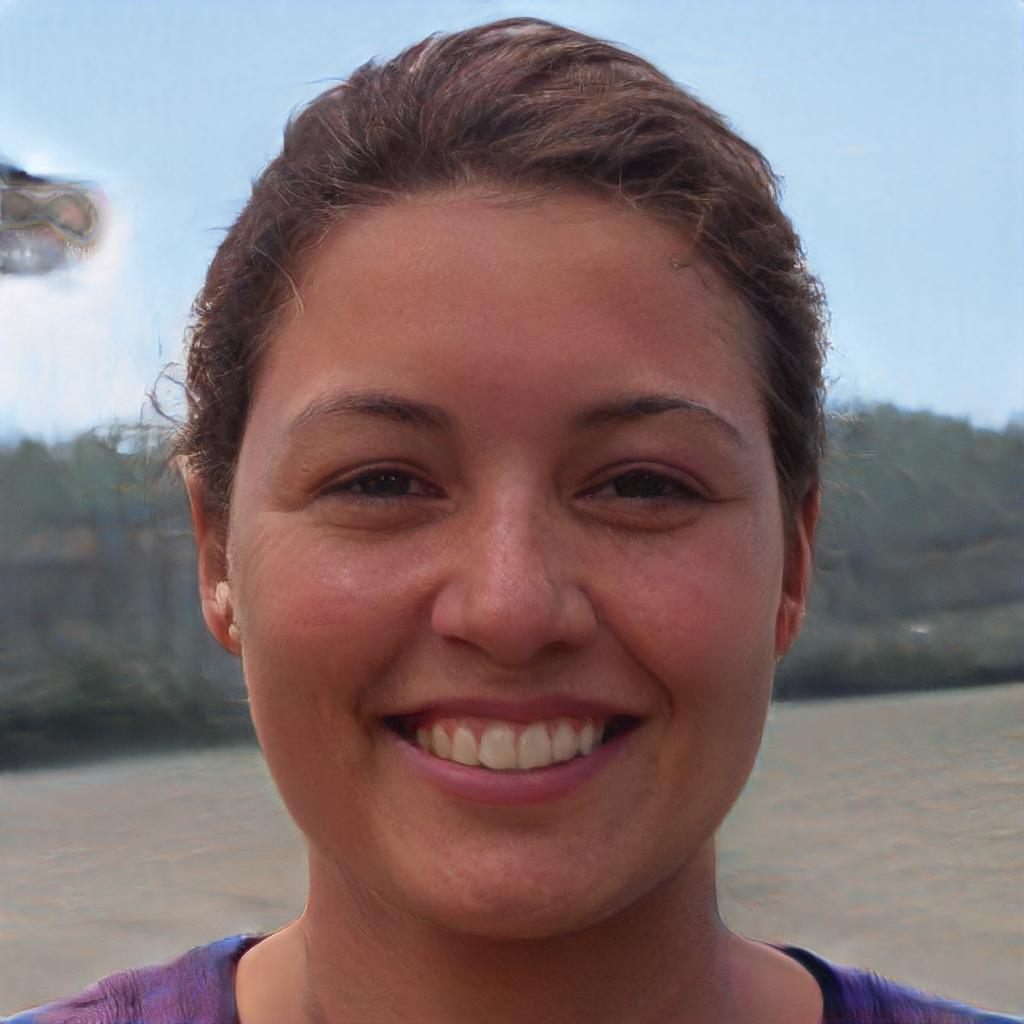face: (229, 193, 782, 937)
